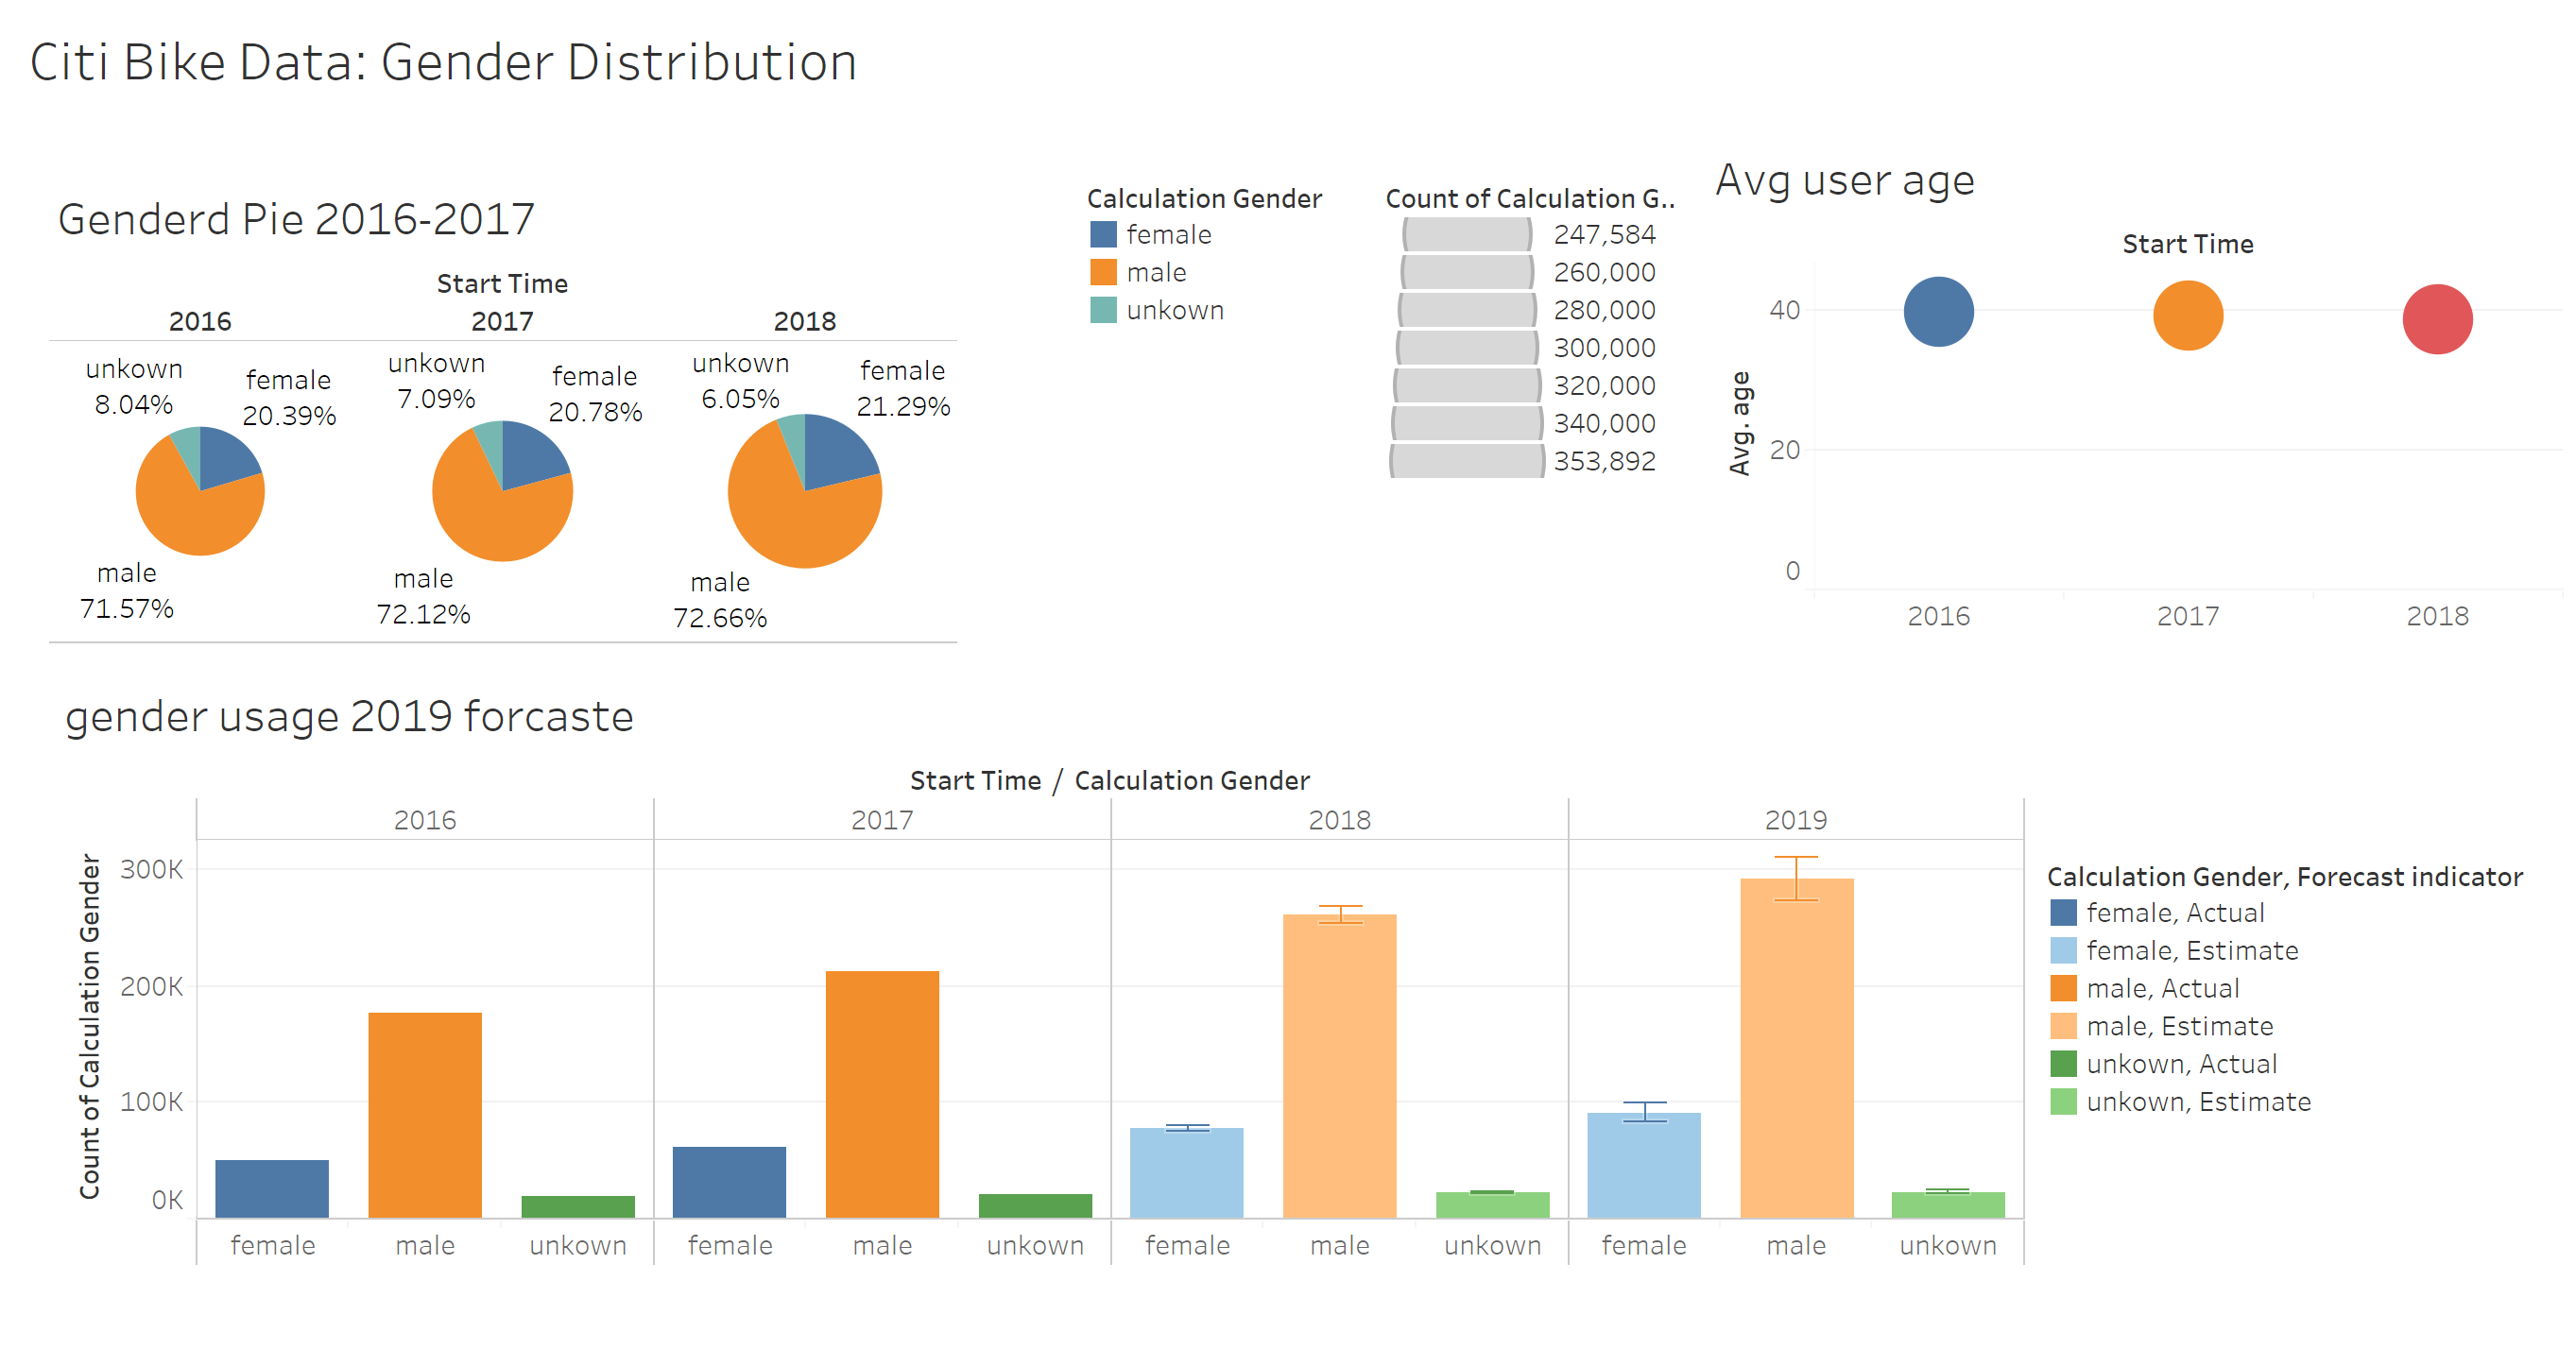

This screenshot's page, from the dashboard's own definition file:
{"tool":"tableau","page":{"name":"Gender dashboard","canvas":[1000,1000],"units":"permille","ordinal":1},"visuals":[{"type":"title","box":[5.9,11.2,988.3,58.8]},{"type":"worksheet","title":"Genderd Pie 2016-2017","mark":"Pie","cols":["Start Time"],"box":[22.7,68.6,407.2,435.6]},{"type":"worksheet","title":"Avg user age","mark":"Circle","rows":["Calculation_26740144749191171"],"cols":["Start Time"],"box":[662.5,100.8,333.1,369.8]},{"type":"legend","title":"Genderd Pie 2016-2017","param":"[federated.05p89nf1blcklp1b6y2vs13xkesh (copy)].[cnt:Calculation_267401446667673","box":[540,169.5,102.7,225.5]},{"type":"legend","title":"Genderd Pie 2016-2017","param":"[federated.05p89nf1blcklp1b6y2vs13xkesh (copy)].[none:Calculation_26740144666767","box":[418.2,205.9,102.7,165.3]},{"type":"worksheet","title":"gender usage 2019 forcaste","mark":"Bar","rows":["Calculation_26740144666767360"],"cols":["Start Time","Calculation_26740144666767360"],"box":[19,492.5,771,451.2]}]}

Visuals, with their boxes on the dashboard's canvas, which has no fixed pixel size, in thousandths of its width and height (x1, y1, x2, y2). These are canvas units, not pixel positions in the 2576x1349 screenshot, which may show the page scaled, cropped or inside an application window:
title: [left=6, top=11, right=994, bottom=70]
"Genderd Pie 2016-2017" worksheet (Pie marks): [left=23, top=69, right=430, bottom=504]
"Avg user age" worksheet (Circle marks): [left=662, top=101, right=996, bottom=471]
"Genderd Pie 2016-2017" legend: [left=540, top=170, right=643, bottom=395]
"Genderd Pie 2016-2017" legend: [left=418, top=206, right=521, bottom=371]
"gender usage 2019 forcaste" worksheet (Bar marks): [left=19, top=492, right=790, bottom=944]
